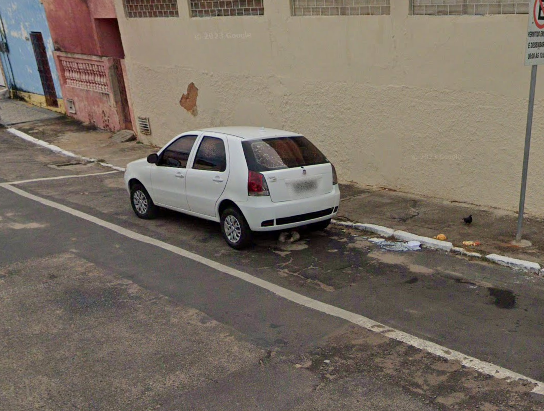car: (120, 117, 344, 257)
